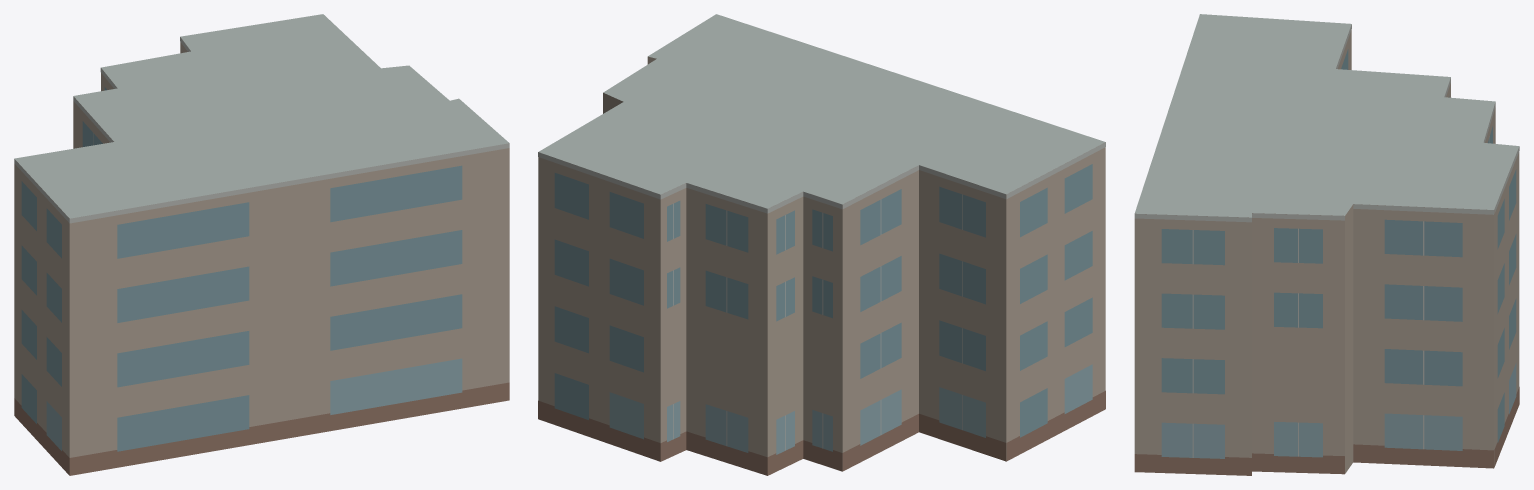
File: survey-upis-32463637.glb
The picture shows the model from 3 angles, left to right: view 1: azimuth 30°, elevation 25°; view 2: azimuth 150°, elevation 25°; view 3: azimuth 270°, elevation 25°; orthographic projection. The views are drawn at different scales.
Parts seen in each view (by area): view 1: survey-upis-32463637.tmp; view 2: survey-upis-32463637.tmp; view 3: survey-upis-32463637.tmp.
Boxes of the visible parts, x1=… form: survey-upis-32463637.tmp: x1=14, y1=14, x2=509, y2=475; survey-upis-32463637.tmp: x1=538, y1=14, x2=1105, y2=475; survey-upis-32463637.tmp: x1=1134, y1=14, x2=1519, y2=475.
Size of the model in its own units: 22.31 by 13.2 by 17.83.
